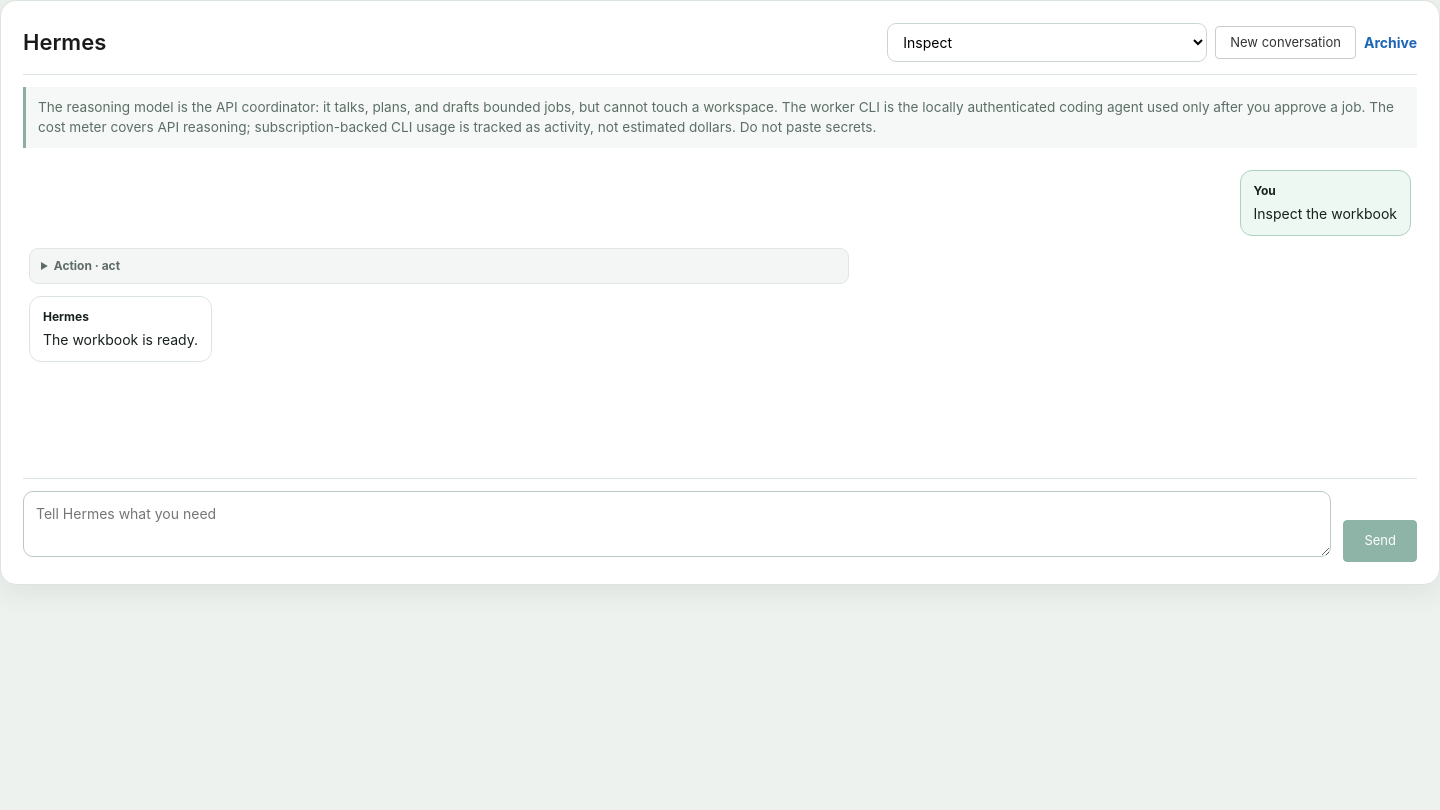
Test: Hermes chat › summarises machine turns without hiding their stored content
This screenshot has width=1440, height=810.
Click the heading "Action · act".
click(87, 266)  # box left=54, top=258, right=120, bottom=273
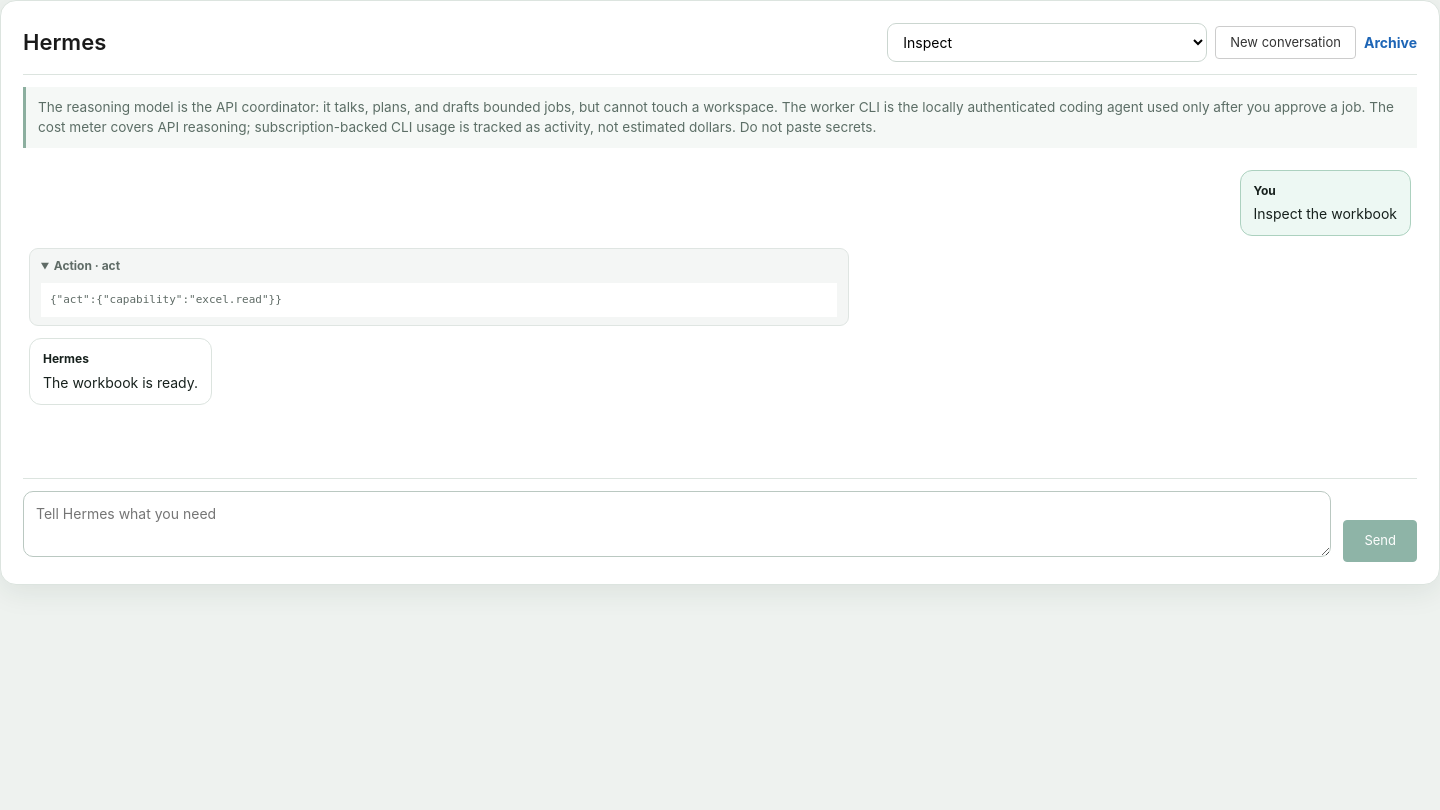
Result: the text "{\"act\":{\"capability\":\"excel.read\"}}" is shown at left=41, top=283, right=837, bottom=318
